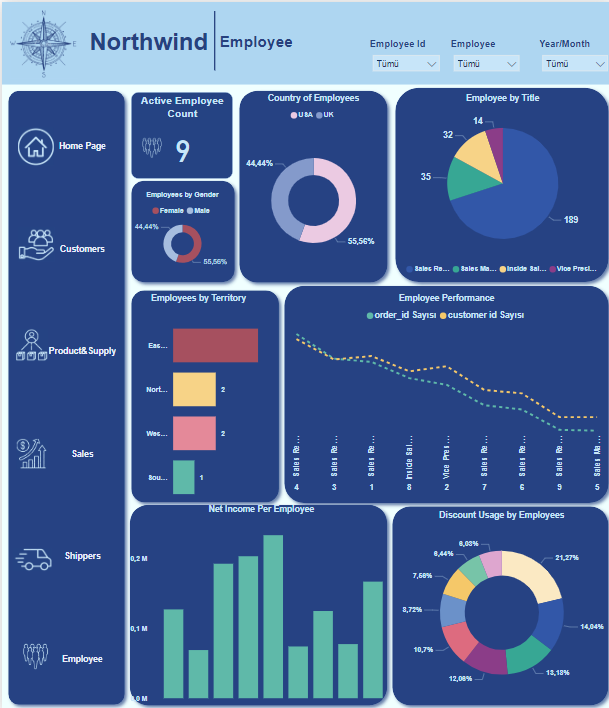

This screenshot's page, from the dashboard's own definition file:
{"tool":"powerbi","page":{"name":"Employee","canvas":[950,1100],"ordinal":5},"visuals":[{"type":"shape","box":[0,0,950.6,128],"z":0},{"type":"shape","box":[359.2,128.2,249.3,316.9],"z":1000},{"type":"shape","box":[0,128.6,200,971.4],"z":2000},{"type":"textbox","box":[129.9,33.8,206.5,57.1],"z":3000},{"type":"image","box":[-0.4,-0.4,129.9,123.4],"z":4000},{"type":"shape","box":[323.4,14.3,13,92.2],"z":5000},{"type":"textbox","box":[332,42,144,40],"z":6000},{"type":"shape","box":[190,266.7,180,176.7],"z":7000},{"type":"card","title":"Active Employee Count","fields":{"Values":["employees.employee_id"]},"box":[200,138.5,158,134.6],"z":8000},{"type":"donutChart","title":"Employees by Gender","fields":{"Category":["employees.Gender"],"Y":["employees.employee_id"]},"box":[200,292.4,159,125],"z":9000},{"type":"shape","box":[600,123.5,350,320.6],"z":10000},{"type":"pieChart","title":"Employee by Title","fields":{"Category":["employees.title"],"Y":["employees.employee_id"]},"box":[611,141.5,329.3,290.2],"z":11000},{"type":"shape","box":[190.3,437.9,248.4,348.4],"z":12000},{"type":"clusteredBarChart","title":"Employees by Territory","fields":{"Category":["territories.region_description"],"Y":["employees.employee_id"]},"box":[206.5,451.6,195.2,346],"z":13000},{"type":"donutChart","title":"Country of Employees","fields":{"Category":["employees.country"],"Y":["employees.employee_id"]},"box":[369.6,142,226.1,289.9],"z":14000},{"type":"shape","box":[428.8,430,522.5,356.2],"z":15000},{"type":"lineChart","title":"Employee Performance","fields":{"Category":["employees.employee_id","employees.title"],"Y":["order details.order_id"],"Y2":["order details.customer id"]},"box":[428.3,450.9,522.6,320.8],"z":16000},{"type":"shape","box":[189.3,769.3,418.7,330.7],"z":17000},{"type":"lineStackedColumnComboChart","title":"Net Income Per Employee","fields":{"Category":["employees.title","employees.employee_id"],"Y":["DAX.TotalNetIncome"]},"box":[192,778,418,312],"z":18000},{"type":"shape","box":[595.7,771.7,354.3,328.3],"z":19000},{"type":"donutChart","title":"Discount Usage by Employees","fields":{"Category":["employees.title","employees.employee_id"],"Y":["order details.discount"]},"box":[604.6,787.7,340,301.5],"z":20000},{"type":"slicer","title":"Employee Id","fields":{"Values":["employees.employee_id"]},"box":[566.2,56.9,123.1,66.2],"z":21000},{"type":"slicer","title":"Employee","fields":{"Values":["employees.title","employees.Full Name"]},"box":[690.8,56.9,121.5,66.2],"z":22000},{"type":"slicer","title":"Year/Month","fields":{"Values":["Dates.Years","Dates.Month"]},"box":[827.7,56.9,121.5,66.2],"z":23000},{"type":"image","box":[205.6,205.6,55.6,41.7],"z":24000},{"type":"pageNavigator","box":[46.1,144.7,156.6,955.3],"z":25000},{"type":"image","box":[17,187.2,72.3,70.2],"z":26000},{"type":"image","box":[19.4,338.7,68.5,72.6],"z":27000},{"type":"image","box":[14.9,495.7,61.7,72.3],"z":28000},{"type":"image","box":[17,672.3,61.7,57.4],"z":29000},{"type":"image","box":[12.8,834,70.2,59.6],"z":30000},{"type":"image","box":[23.9,989.1,57.6,51.1],"z":31000}]}

Visuals, with their boxes in screenshot pixels (x1, y1, x2, y2), scaled from the page's 950x1100 canvas onto the 609x708 screenshot:
shape: (left=0, top=0, right=608, bottom=82)
shape: (left=230, top=83, right=390, bottom=286)
shape: (left=0, top=83, right=128, bottom=707)
textbox: (left=83, top=22, right=216, bottom=59)
image: (left=0, top=0, right=83, bottom=79)
shape: (left=207, top=9, right=216, bottom=69)
textbox: (left=213, top=27, right=305, bottom=53)
shape: (left=122, top=172, right=237, bottom=285)
"Active Employee Count" card: (left=128, top=89, right=229, bottom=176)
"Employees by Gender" donutChart: (left=128, top=188, right=230, bottom=269)
shape: (left=385, top=79, right=608, bottom=286)
"Employee by Title" pieChart: (left=392, top=91, right=603, bottom=278)
shape: (left=122, top=282, right=281, bottom=506)
"Employees by Territory" clusteredBarChart: (left=132, top=291, right=258, bottom=513)
"Country of Employees" donutChart: (left=237, top=91, right=382, bottom=278)
shape: (left=275, top=277, right=608, bottom=506)
"Employee Performance" lineChart: (left=275, top=290, right=608, bottom=497)
shape: (left=121, top=495, right=390, bottom=707)
"Net Income Per Employee" lineStackedColumnComboChart: (left=123, top=501, right=391, bottom=702)
shape: (left=382, top=497, right=608, bottom=707)
"Discount Usage by Employees" donutChart: (left=388, top=507, right=606, bottom=701)
"Employee Id" slicer: (left=363, top=37, right=442, bottom=79)
"Employee" slicer: (left=443, top=37, right=521, bottom=79)
"Year/Month" slicer: (left=531, top=37, right=608, bottom=79)
image: (left=132, top=132, right=167, bottom=159)
pageNavigator: (left=30, top=93, right=130, bottom=707)
image: (left=11, top=120, right=57, bottom=166)
image: (left=12, top=218, right=56, bottom=265)
image: (left=10, top=319, right=49, bottom=366)
image: (left=11, top=433, right=50, bottom=470)
image: (left=8, top=537, right=53, bottom=575)
image: (left=15, top=637, right=52, bottom=670)
